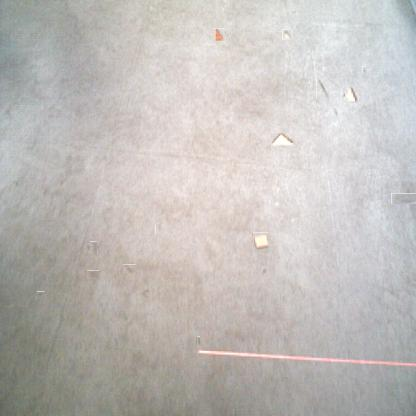dirty: (270, 132, 294, 146), (252, 232, 268, 249), (344, 88, 358, 102), (213, 29, 226, 41), (282, 29, 291, 40)
mark: (398, 186, 416, 211), (316, 75, 329, 99), (124, 263, 135, 275), (88, 243, 99, 255), (88, 269, 99, 280), (139, 287, 149, 297), (261, 266, 269, 276), (330, 105, 338, 115), (155, 224, 162, 234), (38, 291, 45, 299), (13, 180, 21, 187), (196, 336, 200, 347), (362, 66, 367, 73)
